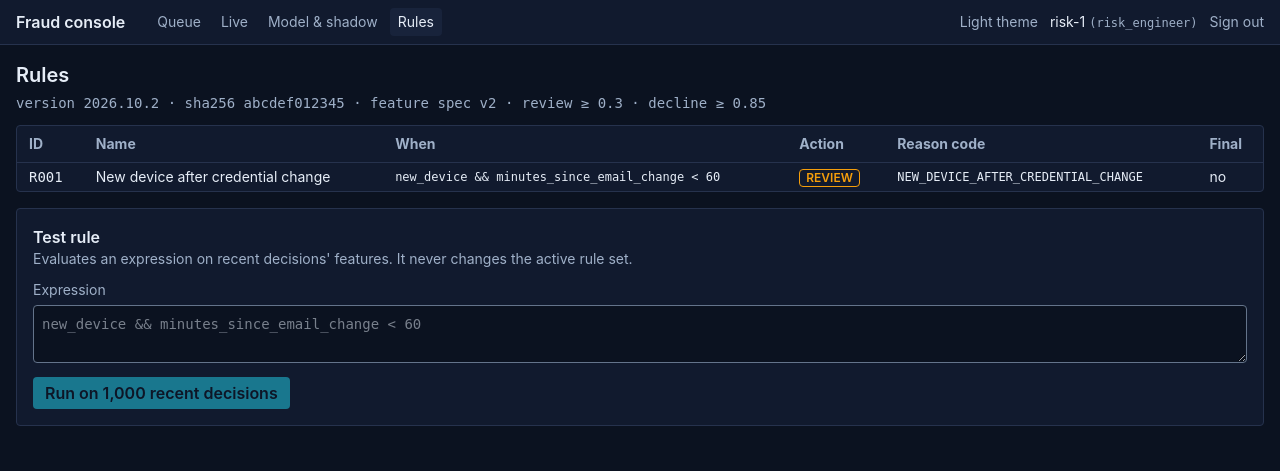
Test: rules › tests an expression and reports compile errors
Type "tx_count_10m >= 8" into the text box labelled "Expression" at (640, 334), box [33, 305, 1247, 363]
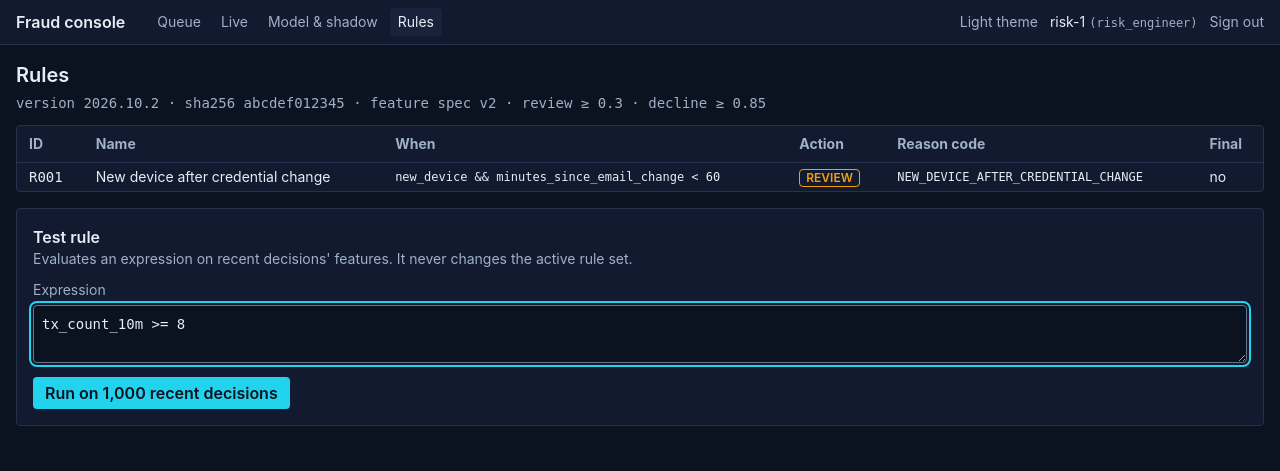
Click the button "Run on 1,000 recent decisions" at (161, 393), box [33, 377, 290, 409]
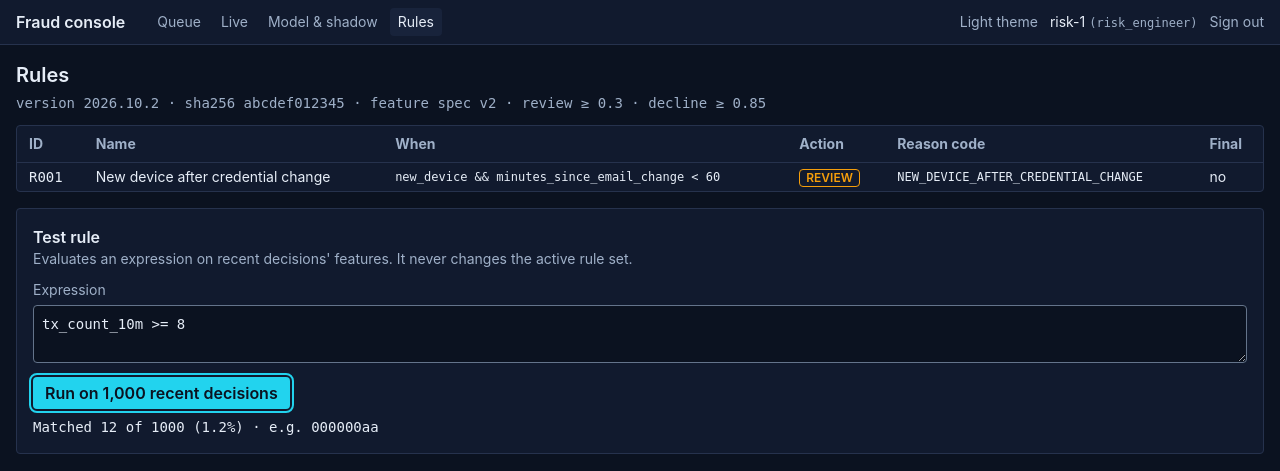
Now the text "Matched 12 of 1000 (1.2%) · e.g. 000000aa" is shown, box [33, 419, 379, 435]
Replace the text in the text box labelled "Expression" with "amount_minor +" at (640, 334), box [33, 305, 1247, 363]
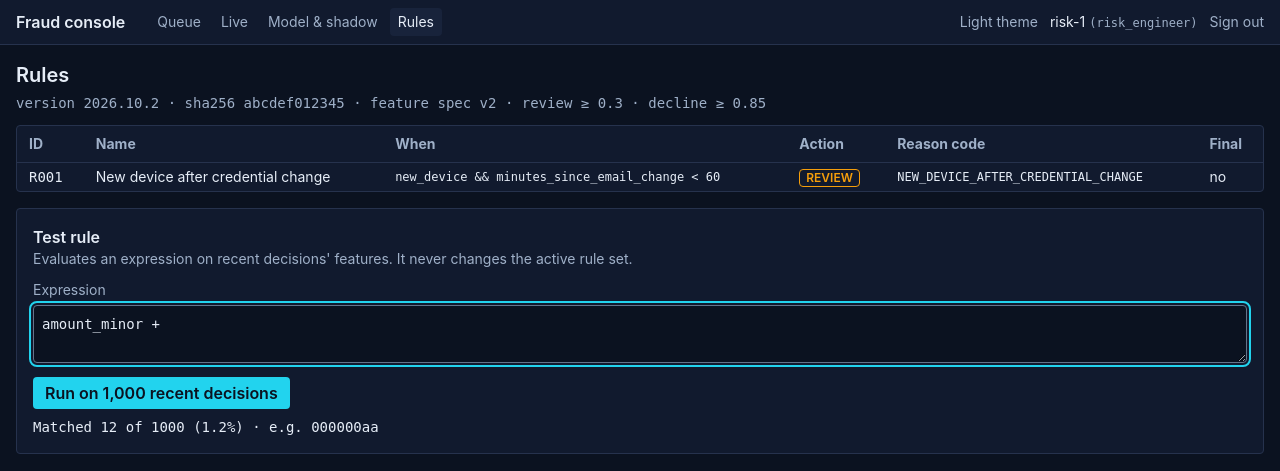
Click the button "Run on 1,000 recent decisions" at (161, 393), box [33, 377, 290, 409]
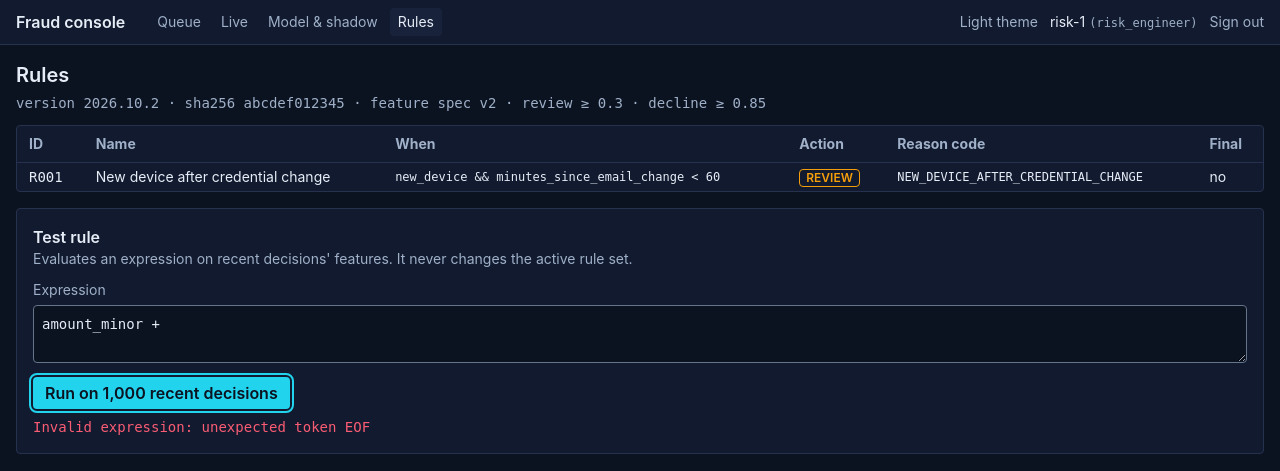
Now the message reads "Invalid expression: unexpected token EOF", box [33, 419, 370, 435]
